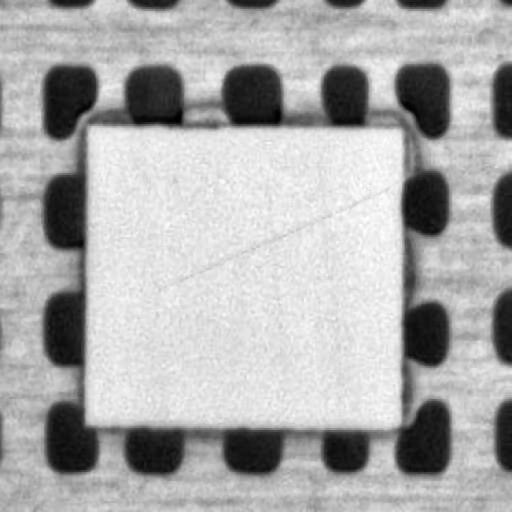DIE_CRACK: (207, 140, 512, 217)
